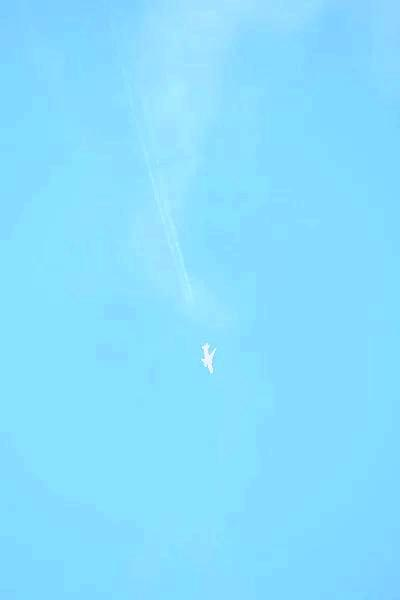Plane: (194, 333, 224, 383)
